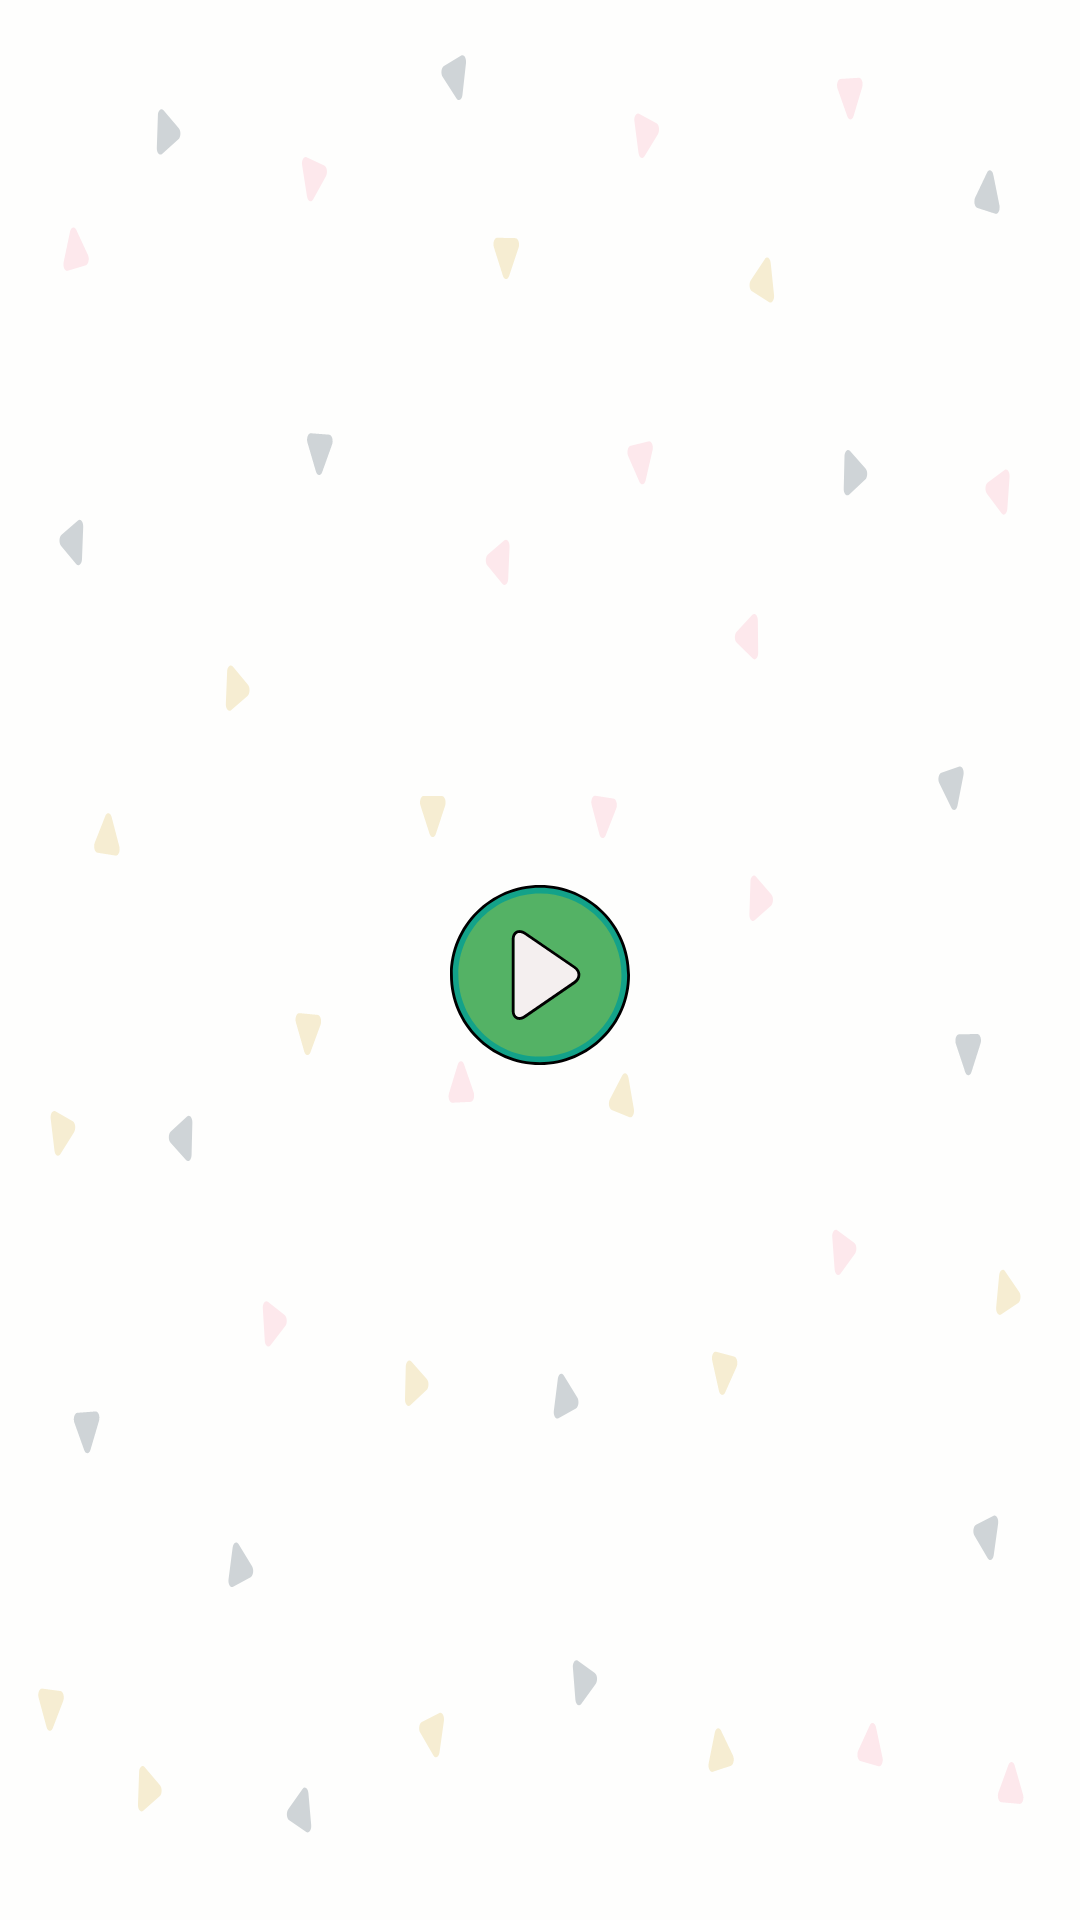

Where icons sit on this 1080px x 1920px app screen, as (x1, y1, x2, y2):
play: (450, 885, 630, 1065)
